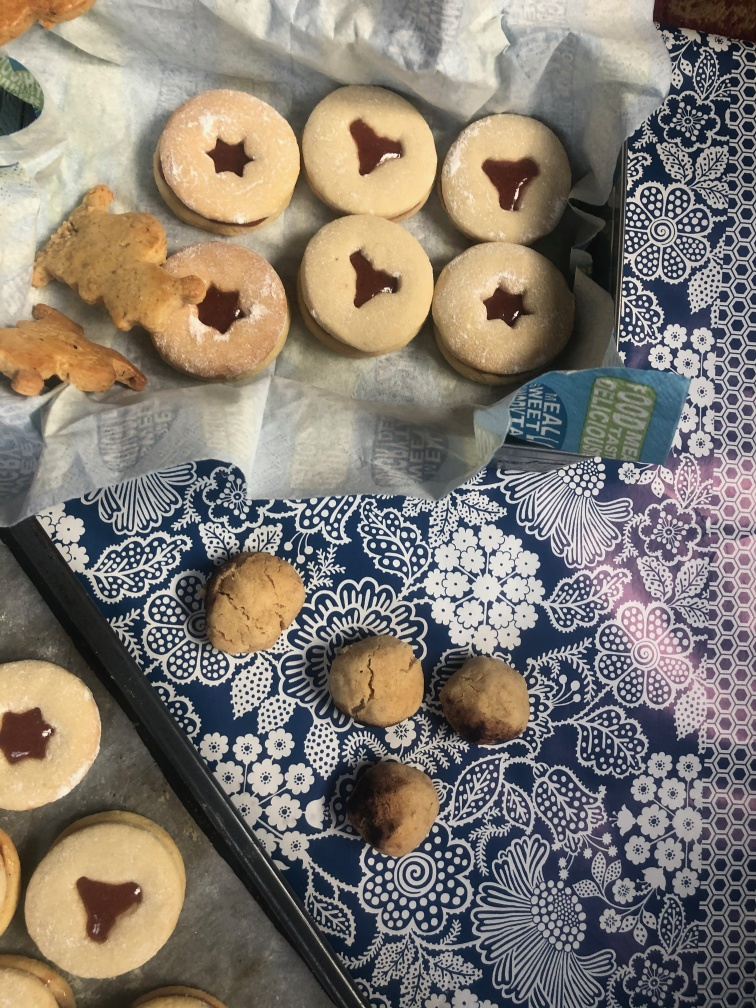christmas shortbread with jam: (24, 811, 188, 978), (152, 85, 302, 238), (430, 241, 570, 384), (302, 82, 437, 223), (296, 214, 429, 354), (444, 109, 569, 244), (2, 654, 101, 811), (183, 239, 288, 373)
santa claus: (34, 183, 207, 328)
snowball: (316, 628, 423, 733), (194, 551, 303, 650), (431, 646, 529, 746), (352, 760, 441, 859)
